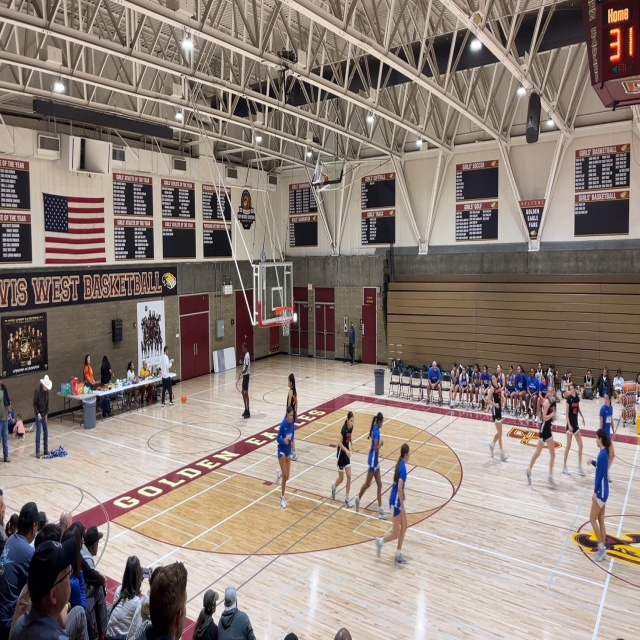Basketball: (181, 394, 187, 403)
